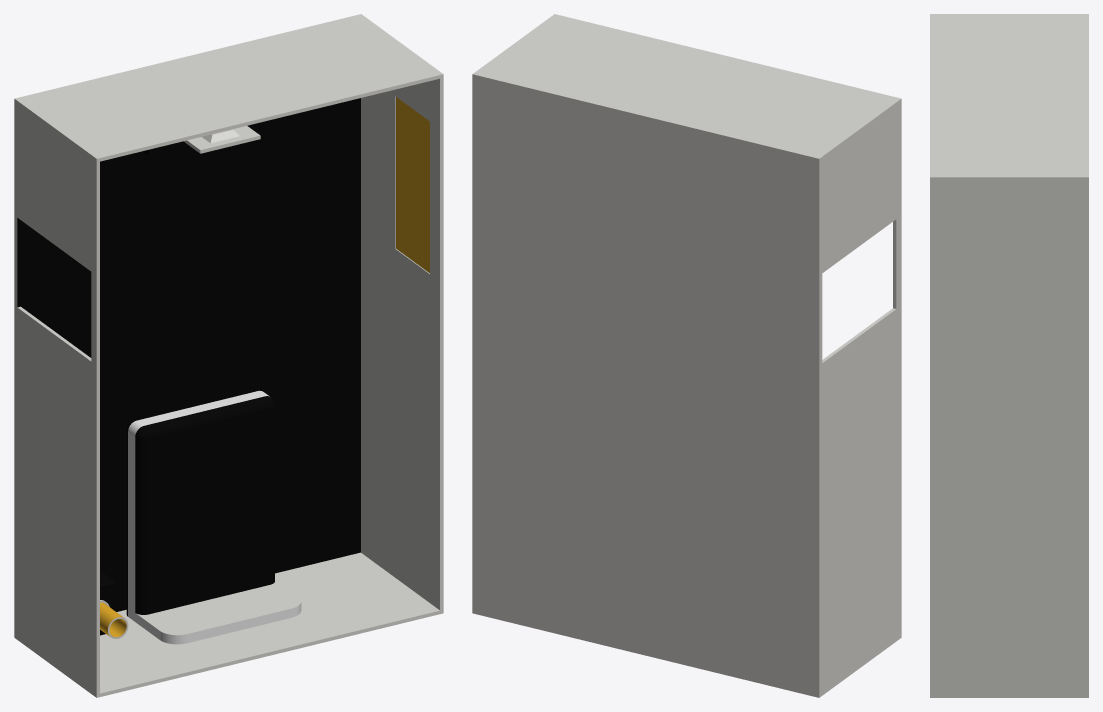
File: la_raza_room v5.fbx
The picture shows the model from 3 angles, left to right: view 1: azimuth 30°, elevation 25°; view 2: azimuth 150°, elevation 25°; view 3: azimuth 270°, elevation 25°; orthographic projection. The views are drawn at different scales.
Parts seen in each view (by area): view 1: Body1; view 2: Body1; view 3: Body1.
Part boxes in pixels (x1,y1,x2,y2): Body1: (14,14,443,697); Body1: (472,14,901,697); Body1: (930,14,1088,697).
Size of the model in its own units: 202 by 300 by 83.
